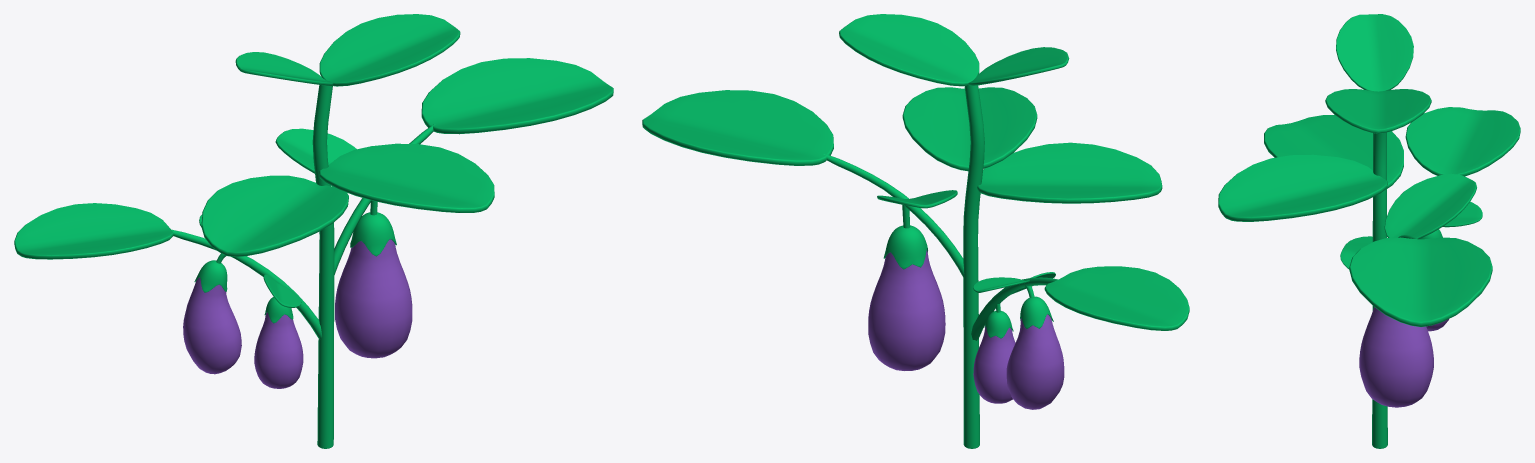
Rendered from Farm_11_Eggplant_Bush_2.glb.
The picture shows the model from 3 angles, left to right: view 1: azimuth 30°, elevation 25°; view 2: azimuth 150°, elevation 25°; view 3: azimuth 270°, elevation 25°; orthographic projection. The views are drawn at different scales.
Parts seen in each view (by area): view 1: Farm_11_Eggplant_Bush_2; view 2: Farm_11_Eggplant_Bush_2; view 3: Farm_11_Eggplant_Bush_2.
Boxes of the visible parts, box(x1,y1,x2,y2) form: Farm_11_Eggplant_Bush_2: box(14, 14, 613, 448); Farm_11_Eggplant_Bush_2: box(642, 14, 1189, 448); Farm_11_Eggplant_Bush_2: box(1218, 14, 1520, 448).
Size of the model in its own units: 1.87 by 1.29 by 0.9017.
1 material, 1 textured.
